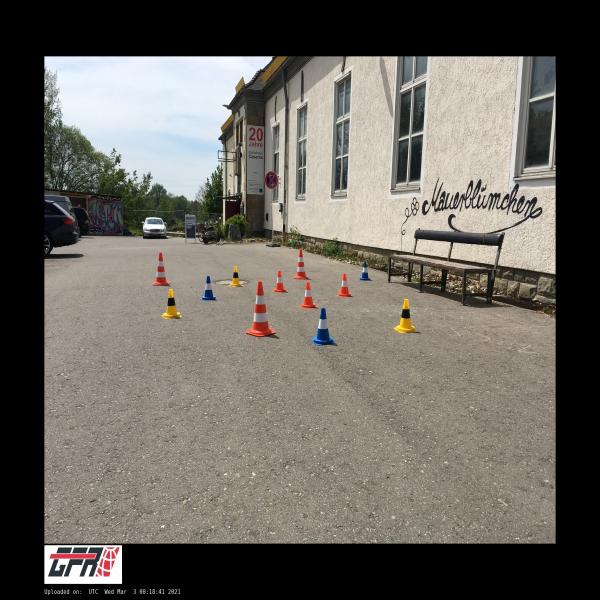blue_cone: (311, 308, 336, 346), (200, 276, 216, 301), (359, 262, 371, 280)
large_orange_cone: (246, 281, 276, 337), (153, 252, 170, 286), (294, 250, 309, 279)
orange_cone: (299, 282, 318, 308), (336, 273, 353, 297), (272, 270, 288, 292)
yellow_cone: (393, 299, 418, 332), (162, 289, 182, 319), (228, 266, 243, 287)
